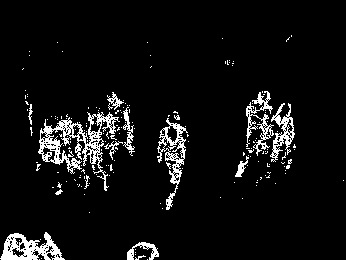person: (232, 89, 274, 181), (155, 108, 187, 211), (83, 103, 115, 191), (59, 115, 90, 193), (35, 116, 63, 196), (104, 91, 137, 158), (266, 100, 297, 171)
